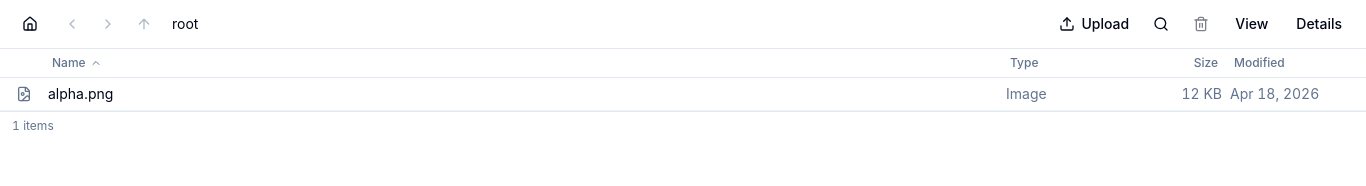
Test case: FileExplorer — search UI (Phase 7.1) › 'Clear search' affordance is visible while search is active and dismisses the results
Expected: the number of rows with test id "explorer-row" is 1, [0,78,1365,111]
Click the button with test id "file-explorer-search-trigger": click(1161, 24) [1143,8,1179,40]
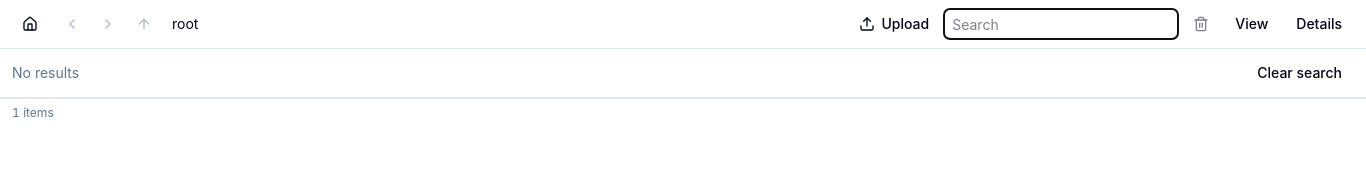
In the search field: (1061, 24) [943,8,1179,40], type "hit"
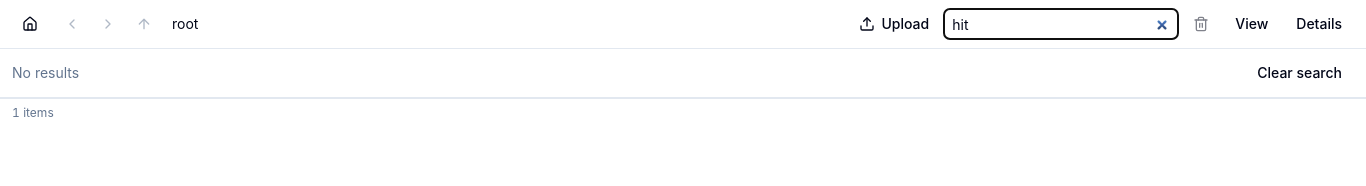
Press Enter in the search field, box [943,8,1179,40]
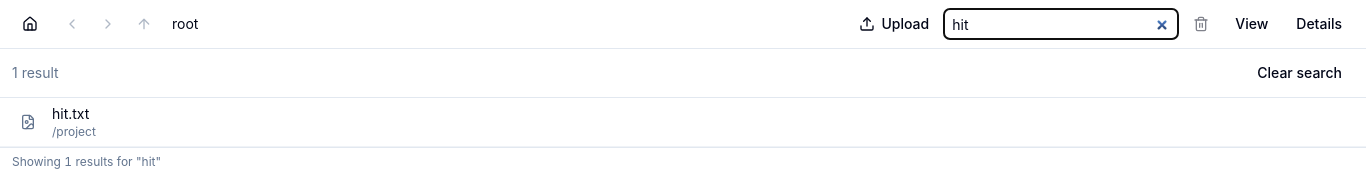
Now the list with test id "file-explorer-search-results" is shown, box [0,49,1365,147]
Now the button with test id "file-explorer-search-clear" is shown
Click the button with test id "file-explorer-search-clear": click(1300, 73) [1245,57,1354,89]
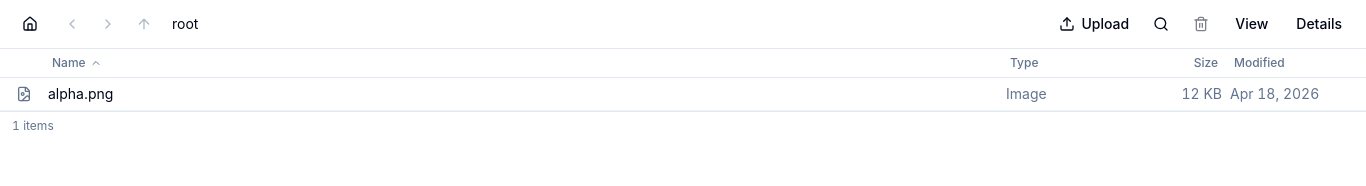
Now the list with test id "file-explorer-search-results" is gone
Now the number of rows with test id "explorer-row" is 1, box [0,78,1365,111]
